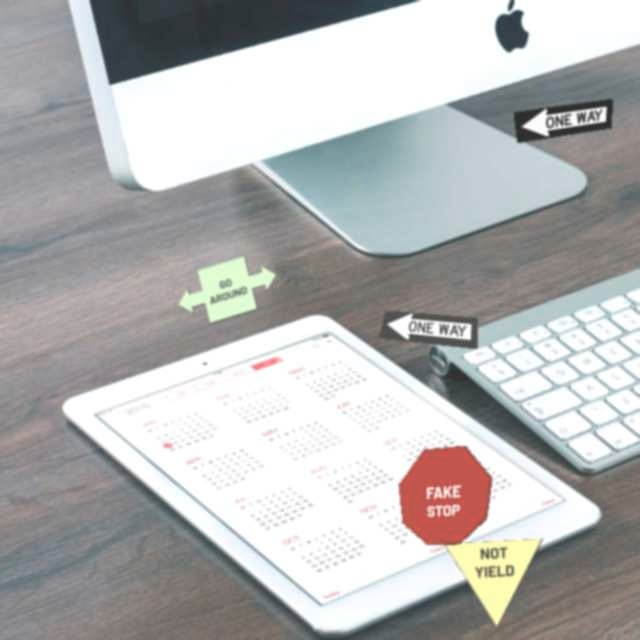FAKE_STOP: (398, 445, 492, 545)
GO_AROUND: (177, 255, 277, 324)
NOT_YIELD: (443, 538, 543, 628)
ONE_WAY_ left: (513, 98, 613, 143), (378, 310, 478, 349)
